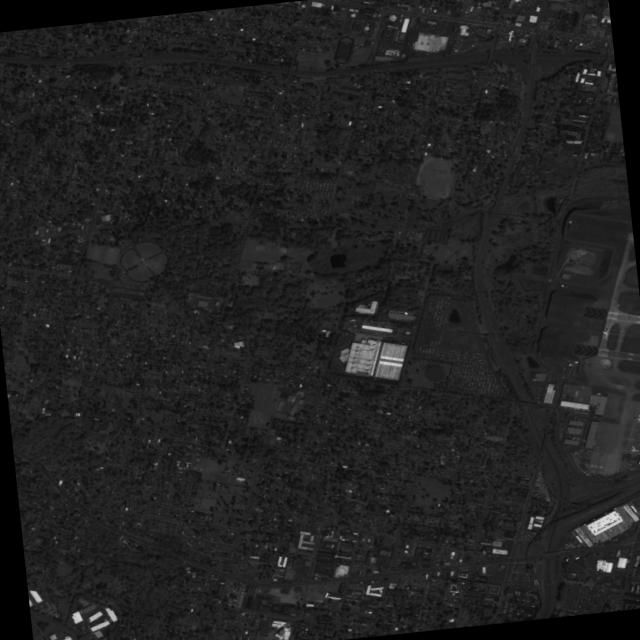plane: (599, 326, 612, 339), (626, 444, 639, 455), (632, 413, 640, 423), (593, 465, 597, 468), (589, 464, 592, 467), (598, 466, 602, 468)
